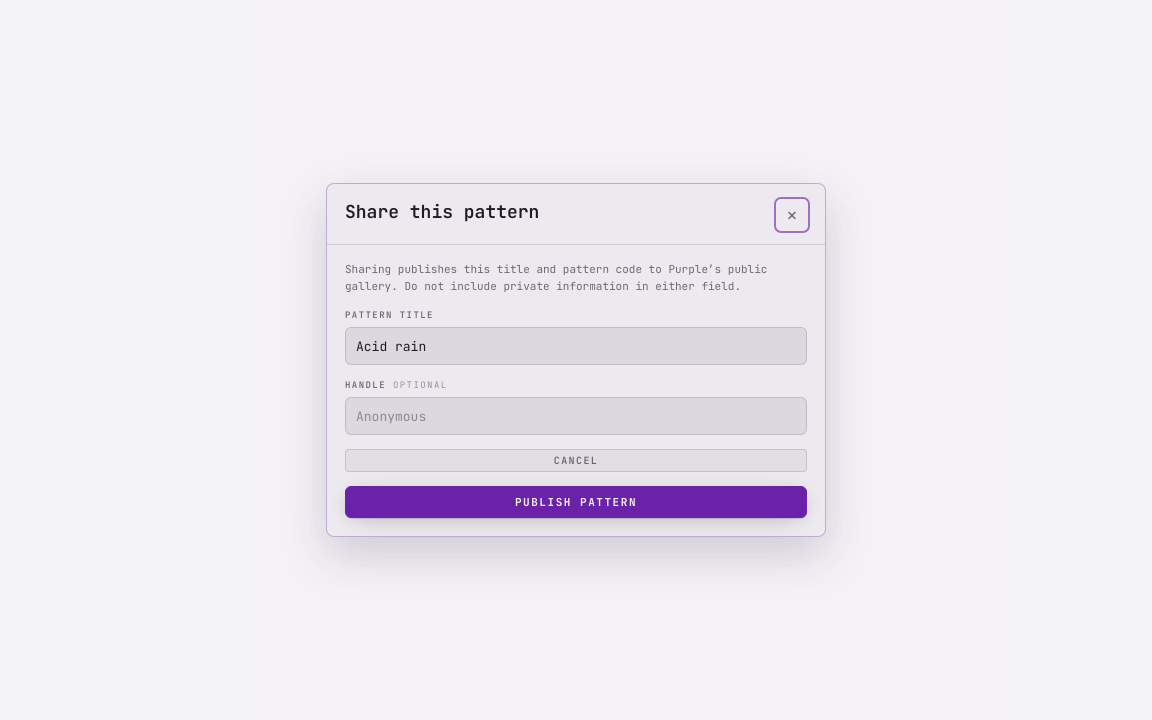
Test case: share dialog › cannot be dismissed while public publication is in flight
The image size is (1152, 720).
Click the button "PUBLISH PATTERN" at [576, 502], box [345,486,807,518]
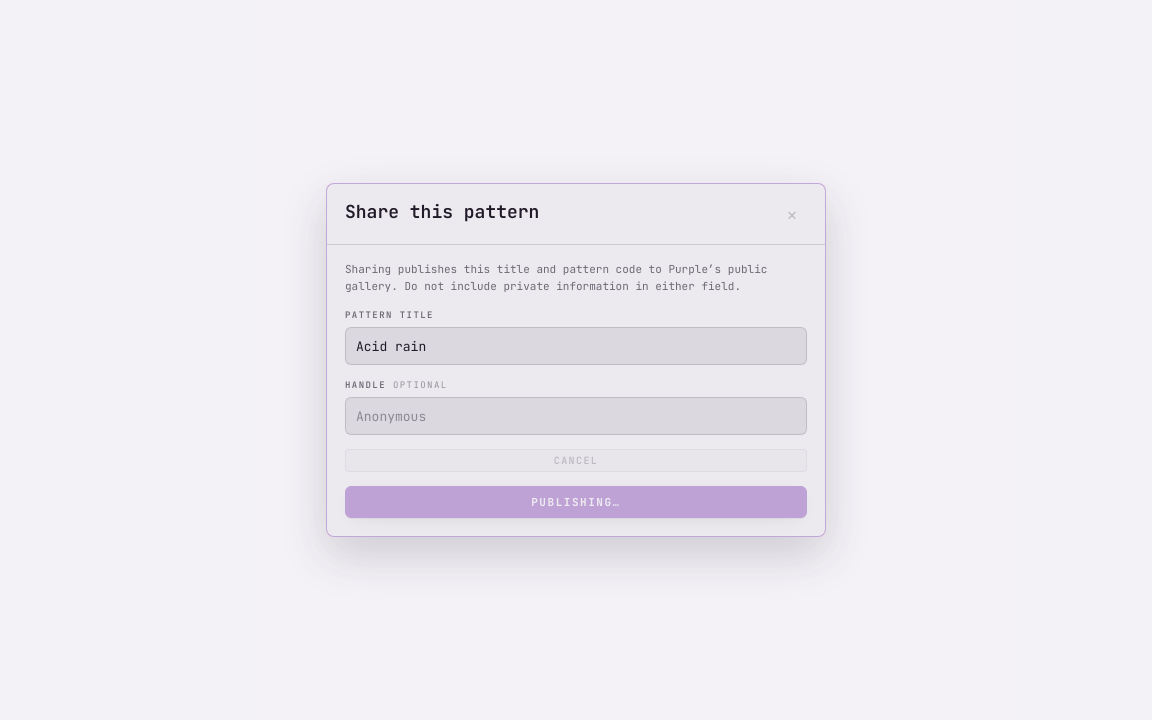
Expected: the button named "Close sharing" is disabled, [777,200,807,230]
Expected: the button "PUBLISHING…" is disabled, [345,486,807,518]
Expected: the button "CANCEL" is disabled, [345,449,807,472]
Press Escape
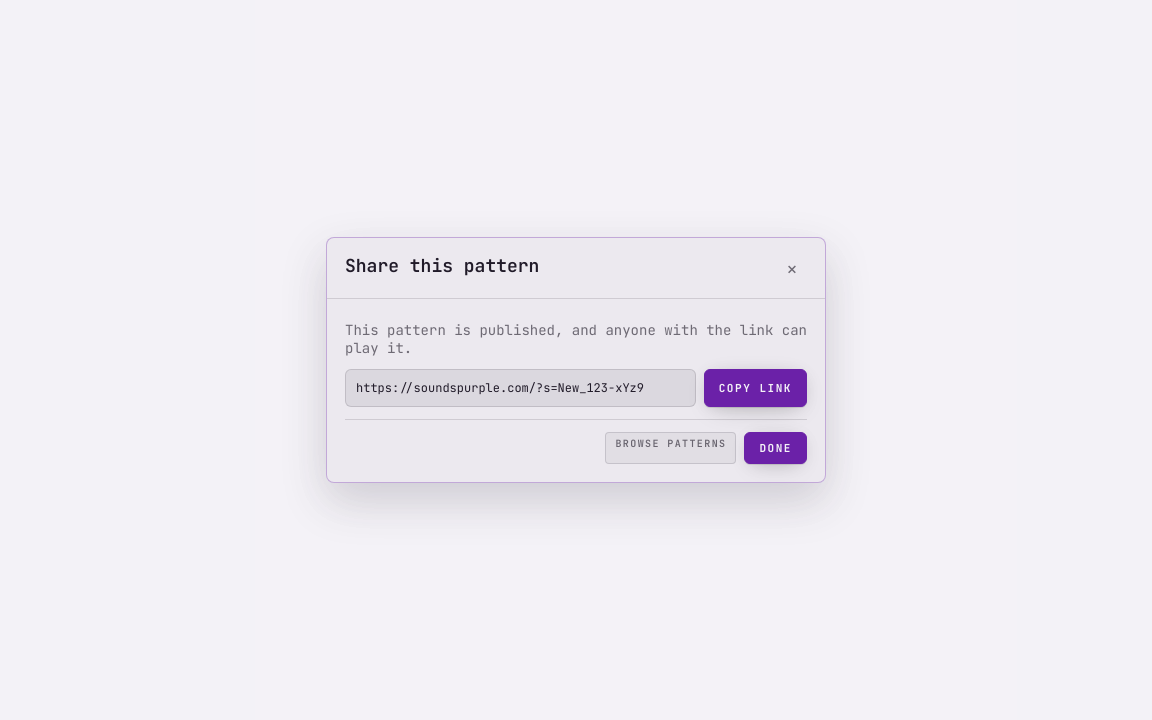
Expected: the text "This pattern is published, and anyone with the link can play it." is shown, [345,321,807,357]
